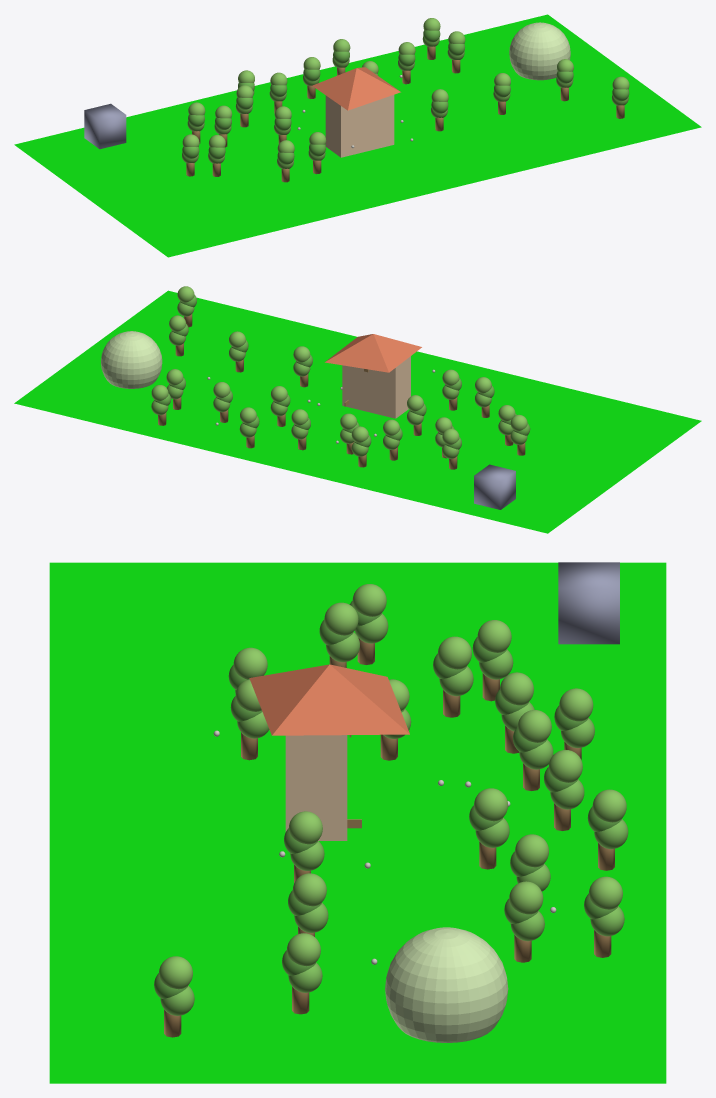
The model's file is village.glb.
3 renders of one model, top to bottom at view 1: azimuth 30°, elevation 25°; view 2: azimuth 150°, elevation 25°; view 3: azimuth 270°, elevation 25°, orthographic. The views are drawn at different scales.
Parts seen in each view (by area): view 1: Plane, House_Base, Sphere, House_Roof, Cube, Tree_Foliage_14.0_14.0_2.007, Tree_Foliage_14.0_14.0_2.002, Tree_Foliage_14.0_14.0_2.004, Tree_Foliage_14.0_14.0_2.015, Tree_Foliage_14.0_14.0_2.016, Tree_Foliage_14.0_14.0_2.003, Tree_Foliage_14.0_14.0_2.009 (+11 smaller); view 2: Plane, House_Base, Sphere, House_Roof, Cube, Tree_Foliage_14.0_14.0_2.013, Tree_Foliage_14.0_14.0_2.002, Tree_Foliage_14.0_14.0_2.003, Tree_Foliage_14.0_14.0_2.017, Tree_Foliage_14.0_14.0_2.014, Tree_Foliage_14.0_14.0_2.016, Tree_Foliage_14.0_14.0_2.011 (+12 smaller); view 3: Plane, Sphere, House_Roof, House_Base, Cube, Tree_Foliage_14.0_14.0_2.004, Tree_Foliage_14.0_14.0_2.009, Tree_Foliage_14.0_14.0_2.019, Tree_Foliage_14.0_14.0_2.001, Tree_Foliage_14.0_14.0_2.006, Tree_Foliage_14.0_14.0_2.010, Tree_Foliage_14.0_14.0_2.011 (+13 smaller).
Part boxes in pixels (x1,y1,x2,y2): Plane: (14, 14, 701, 257); House_Base: (325, 95, 394, 157); Sphere: (509, 22, 570, 80); House_Roof: (312, 67, 400, 110); Cube: (84, 103, 126, 149); Tree_Foliage_14.0_14.0_2.007: (235, 85, 253, 127); Tree_Foliage_14.0_14.0_2.002: (431, 89, 448, 131); Tree_Foliage_14.0_14.0_2.004: (447, 31, 465, 73); Tree_Foliage_14.0_14.0_2.015: (277, 140, 294, 182); Tree_Foliage_14.0_14.0_2.016: (182, 134, 199, 176); Tree_Foliage_14.0_14.0_2.003: (308, 132, 326, 174); Tree_Foliage_14.0_14.0_2.009: (611, 76, 629, 118); Plane: (14, 290, 701, 533); House_Base: (342, 356, 410, 418); Sphere: (101, 331, 162, 388); House_Roof: (324, 334, 421, 372); Cube: (474, 464, 515, 509); Tree_Foliage_14.0_14.0_2.013: (351, 426, 371, 467); Tree_Foliage_14.0_14.0_2.002: (293, 346, 312, 387); Tree_Foliage_14.0_14.0_2.003: (442, 369, 461, 410); Tree_Foliage_14.0_14.0_2.017: (291, 409, 310, 450); Tree_Foliage_14.0_14.0_2.014: (442, 428, 461, 469); Tree_Foliage_14.0_14.0_2.016: (510, 414, 530, 455); Tree_Foliage_14.0_14.0_2.011: (239, 407, 259, 448); Plane: (49, 562, 666, 1083); Sphere: (385, 927, 508, 1042); House_Roof: (249, 664, 409, 735); House_Base: (285, 735, 347, 840); Cube: (558, 562, 619, 644); Tree_Foliage_14.0_14.0_2.004: (504, 881, 544, 962); Tree_Foliage_14.0_14.0_2.009: (154, 956, 194, 1037); Tree_Foliage_14.0_14.0_2.019: (282, 933, 322, 1014); Tree_Foliage_14.0_14.0_2.001: (469, 788, 509, 869); Tree_Foliage_14.0_14.0_2.006: (433, 636, 473, 717); Tree_Foliage_14.0_14.0_2.010: (584, 876, 624, 957); Tree_Foliage_14.0_14.0_2.011: (587, 789, 628, 870).
Size of the model in its own units: 40 by 6.19 by 20.
